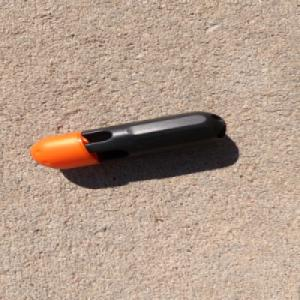PlasticPart: (27, 110, 227, 169)
